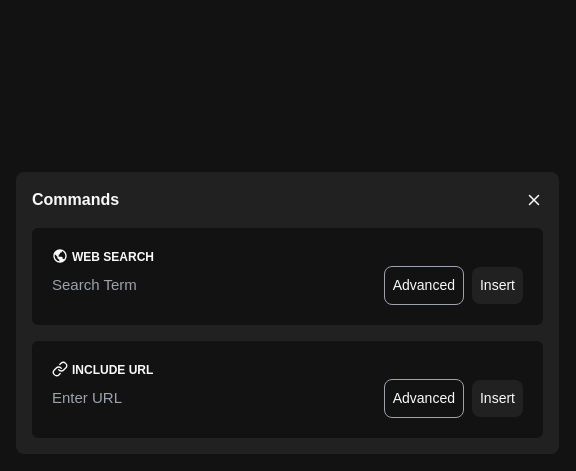
Test: CommandsModal Component › toggles advanced options visibility
Check: the text "Max Execution Time" is not shown
// Simulate clicking the "Advanced" button to show advanced options
What coordinates should you click on to do the following:
click the button "Advanced" below "INCLUDE URL"
I would click on:
 (424, 398)
Its box is [384,379,464,418].
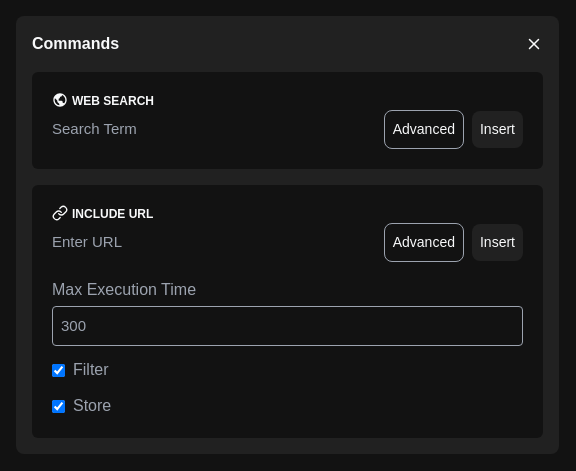
Check: the text "Max Execution Time" is shown, box [52,280,196,298]
// Simulate clicking the "Advanced" button again to hide advanced options
What coordinates should you click on to do the following:
click the button "Advanced" below "INCLUDE URL"
I would click on:
 (424, 242)
Its box is [384,222,464,262].
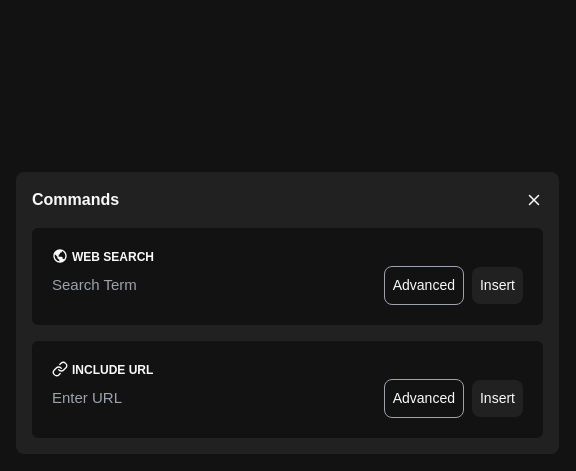
Check: the text "Max Execution Time" is gone
